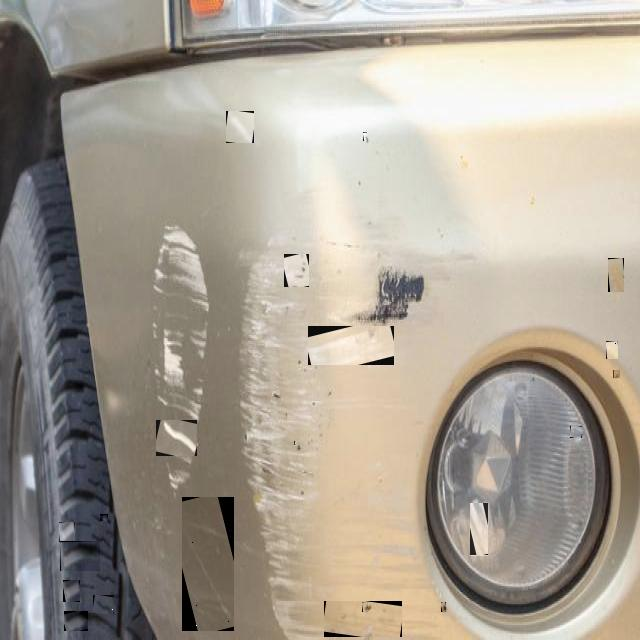Dent: (182, 497, 234, 631), (308, 326, 394, 365), (324, 601, 402, 637), (156, 421, 197, 456), (60, 541, 100, 571), (470, 503, 488, 558), (226, 111, 254, 143), (284, 254, 309, 287), (608, 258, 624, 292), (64, 611, 88, 631), (93, 595, 114, 614), (63, 580, 80, 602), (59, 522, 75, 542), (361, 620, 374, 637), (606, 341, 618, 359), (570, 426, 582, 438), (362, 602, 368, 612), (613, 370, 620, 378), (100, 514, 108, 521), (441, 602, 446, 612), (272, 391, 280, 396), (363, 132, 367, 141), (294, 442, 299, 448)
